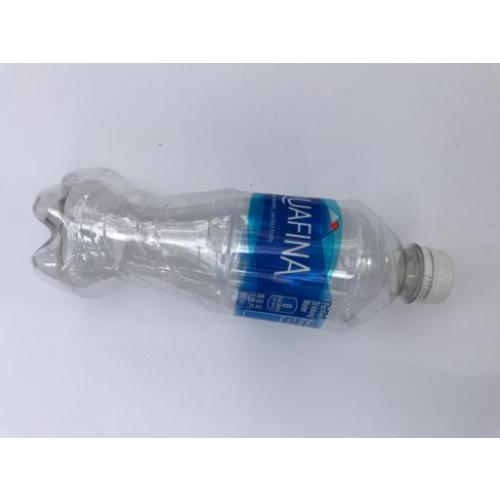plastic: (32, 166, 455, 335)
